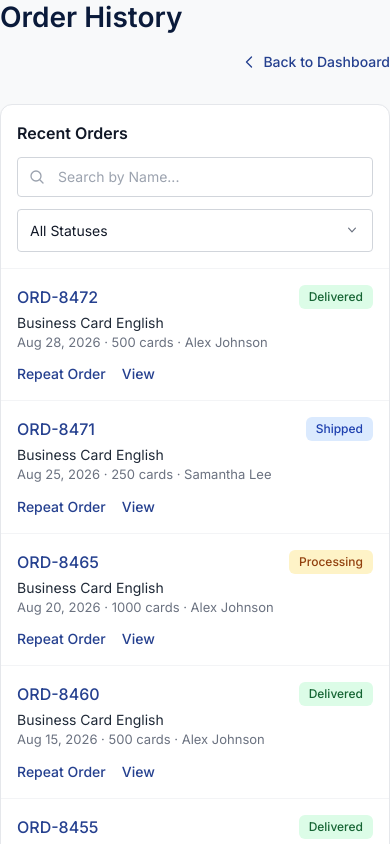
Scenario: OrderHistoryPage › admin company orders › OH-P02 View shows full order details with quantity and total
The width and height of the screenshot is (390, 844).
Click the button "View" below "ORD-8472". click: (138, 374)
box: [122,364,155,384]
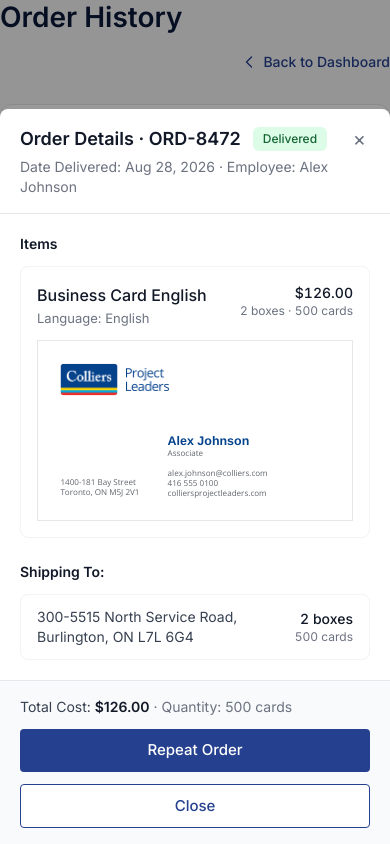
Expected: the dialog shows "Quantity", [150,698,292,715]
Expected: the dialog shows "500", [240,303,353,318]
Expected: the dialog shows "$126.00", [295,284,353,301]
